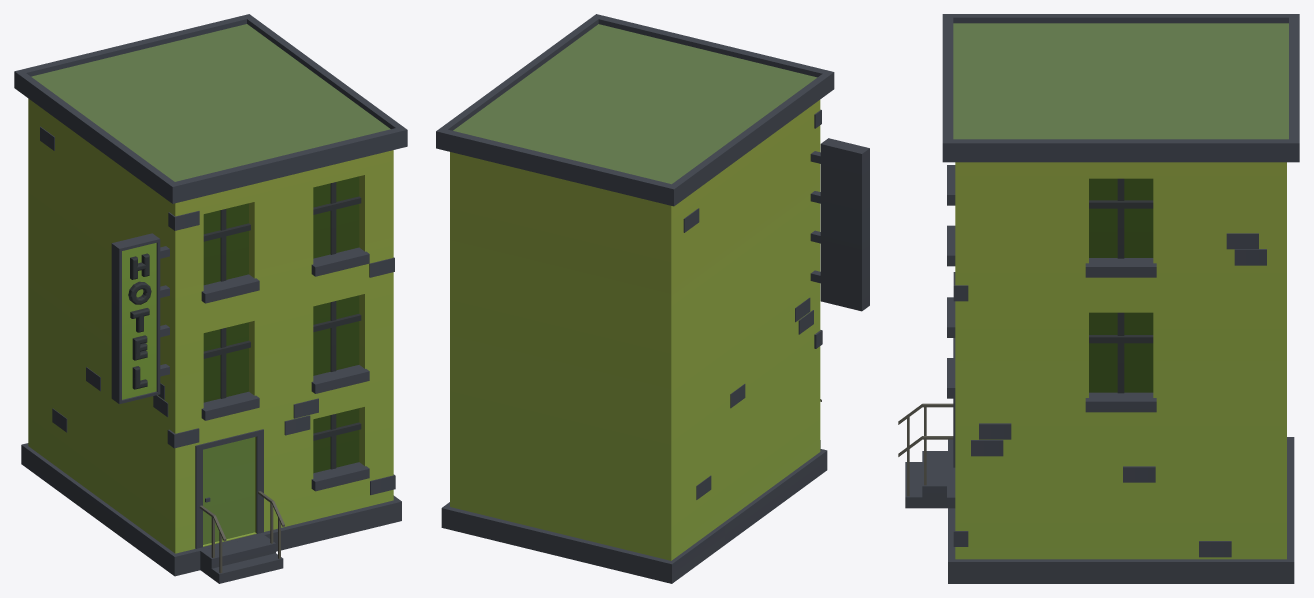
File: Hotel_01.fbx
3 renders of one model, left to right at view 1: azimuth 30°, elevation 25°; view 2: azimuth 150°, elevation 25°; view 3: azimuth 270°, elevation 25°, orthographic. The views are drawn at different scales.
Visible parts, largest first — view 1: Hotel_01; view 2: Hotel_01; view 3: Hotel_01.
Part boxes in pixels (box(x1,y1,x2,y2)): Hotel_01: box(14, 14, 407, 583); Hotel_01: box(436, 14, 869, 583); Hotel_01: box(898, 14, 1299, 583).
Bounding box in the file's own units: 5.76 × 7.73 × 6.35.
